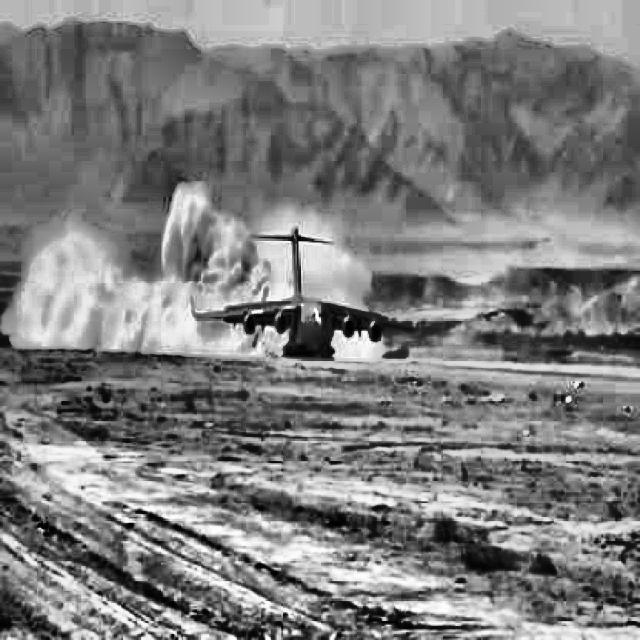C17: (190, 227, 416, 359)
